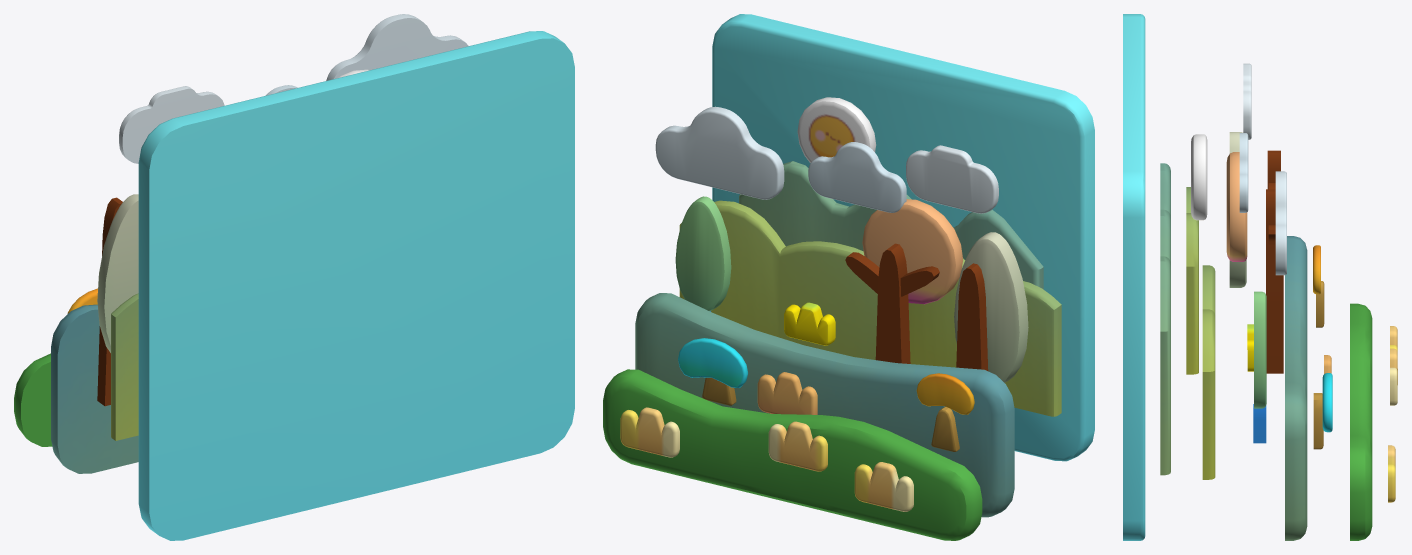
Rendered from lvl_96.fbx.
3 renders of one model, left to right at view 1: azimuth 30°, elevation 25°; view 2: azimuth 150°, elevation 25°; view 3: azimuth 270°, elevation 25°, orthographic. The views are drawn at different scales.
Visible parts, largest first — view 1: Cube_L2, Cube_L1_16, Cube_L2_5, Cube_L1_9, Cube_L2_2, Cube_L1_8, Cube_L1_7, Cube_L1_6; view 2: Cube_L2, Cube_L1_7, Cube_L1_16, Cube_L2_1, Cube_L2_2, Cube_L2_3, Cube_L1_9, Cube_L2_4, Cube_L2_5, Cube_L1_15, Cube_L1_8, Cube_L1_10 (+14 smaller); view 3: Cube_L2, Cube_L1_16, Cube_L1_7, Cube_L2_3, Cube_L2_1, Cube_L1_5, Cube_L2_2, Cube_L2_4, Cube_L1_15, Cube_L2_6, Cube_L1_9, Cube_L1_10 (+10 smaller).
Part boxes in pixels (left/top/right/bottom): Cube_L2: left=138, top=31, right=574, bottom=540; Cube_L1_16: left=51, top=304, right=138, bottom=473; Cube_L2_5: left=97, top=194, right=138, bottom=352; Cube_L1_9: left=326, top=14, right=468, bottom=80; Cube_L2_2: left=111, top=293, right=138, bottom=440; Cube_L1_8: left=119, top=86, right=224, bottom=163; Cube_L1_7: left=14, top=353, right=52, bottom=446; Cube_L1_6: left=97, top=197, right=122, bottom=406; Cube_L2: left=712, top=14, right=1094, bottom=461; Cube_L1_7: left=603, top=369, right=982, bottom=540; Cube_L1_16: left=635, top=293, right=1014, bottom=517; Cube_L2_1: left=679, top=200, right=877, bottom=359; Cube_L2_2: left=908, top=258, right=1061, bottom=416; Cube_L2_3: left=739, top=161, right=1043, bottom=289; Cube_L1_9: left=655, top=106, right=784, bottom=199; Cube_L2_4: left=862, top=199, right=963, bottom=304; Cube_L2_5: left=954, top=232, right=1028, bottom=382; Cube_L1_15: left=675, top=196, right=731, bottom=311; Cube_L1_8: left=906, top=145, right=998, bottom=213; Cube_L1_10: left=808, top=142, right=906, bottom=212; Cube_L2: left=1123, top=14, right=1145, bottom=540; Cube_L1_16: left=1285, top=236, right=1307, bottom=540; Cube_L1_7: left=1350, top=303, right=1372, bottom=540; Cube_L2_3: left=1160, top=163, right=1170, bottom=475; Cube_L2_1: left=1202, top=265, right=1215, bottom=479; Cube_L1_5: left=1266, top=189, right=1283, bottom=373; Cube_L2_2: left=1186, top=187, right=1198, bottom=374; Cube_L2_4: left=1226, top=152, right=1247, bottom=261; Cube_L1_15: left=1254, top=291, right=1266, bottom=408; Cube_L2_6: left=1191, top=134, right=1207, bottom=220; Cube_L1_9: left=1275, top=171, right=1286, bottom=275; Cube_L1_10: left=1239, top=133, right=1248, bottom=212.
Size of the model in its own units: 8.75 by 8.14 by 5.53.
